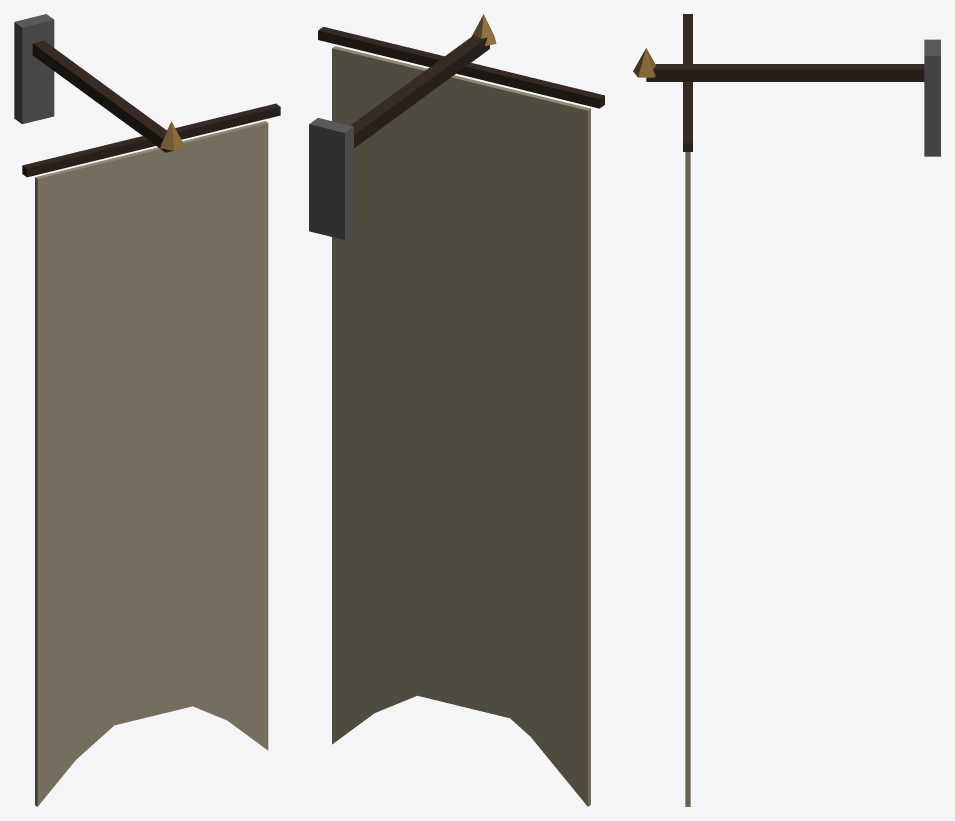
File: walk_prop_banner.glb
The picture shows the model from 3 angles, left to right: view 1: azimuth 30°, elevation 25°; view 2: azimuth 150°, elevation 25°; view 3: azimuth 270°, elevation 25°; orthographic projection. The views are drawn at different scales.
Visible parts, largest first — view 1: walk_prop_banner_cloth, walk_prop_banner; view 2: walk_prop_banner_cloth, walk_prop_banner; view 3: walk_prop_banner, walk_prop_banner_cloth.
Boxes of the visible parts, x1=… form: walk_prop_banner_cloth: x1=35, y1=121, x2=268, y2=806; walk_prop_banner: x1=14, y1=14, x2=280, y2=177; walk_prop_banner_cloth: x1=332, y1=46, x2=590, y2=806; walk_prop_banner: x1=309, y1=14, x2=604, y2=239; walk_prop_banner: x1=633, y1=14, x2=940, y2=156; walk_prop_banner_cloth: x1=685, y1=152, x2=690, y2=806.
Bounding box in the file's own units: 1.1 × 2.78 × 1.11.
Materials: 2 (2 with a texture image).
